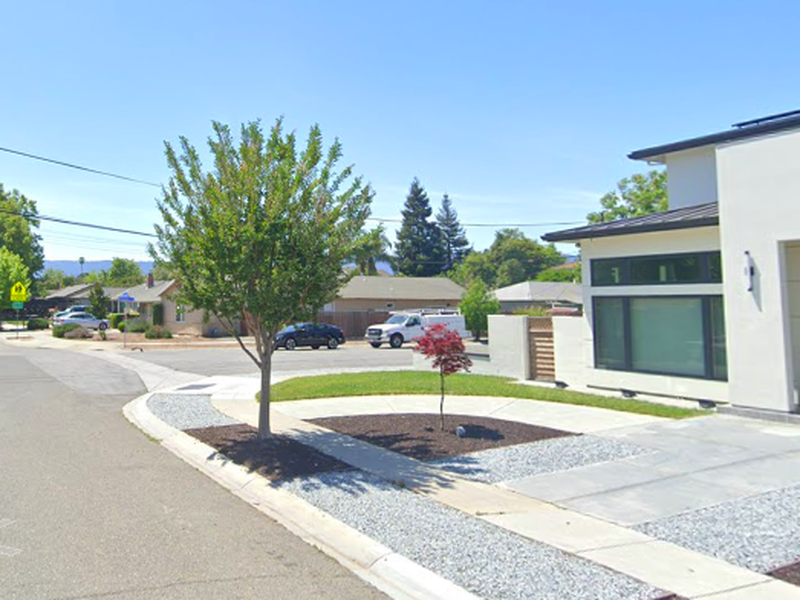tree: (145, 113, 387, 446), (411, 321, 474, 432)
